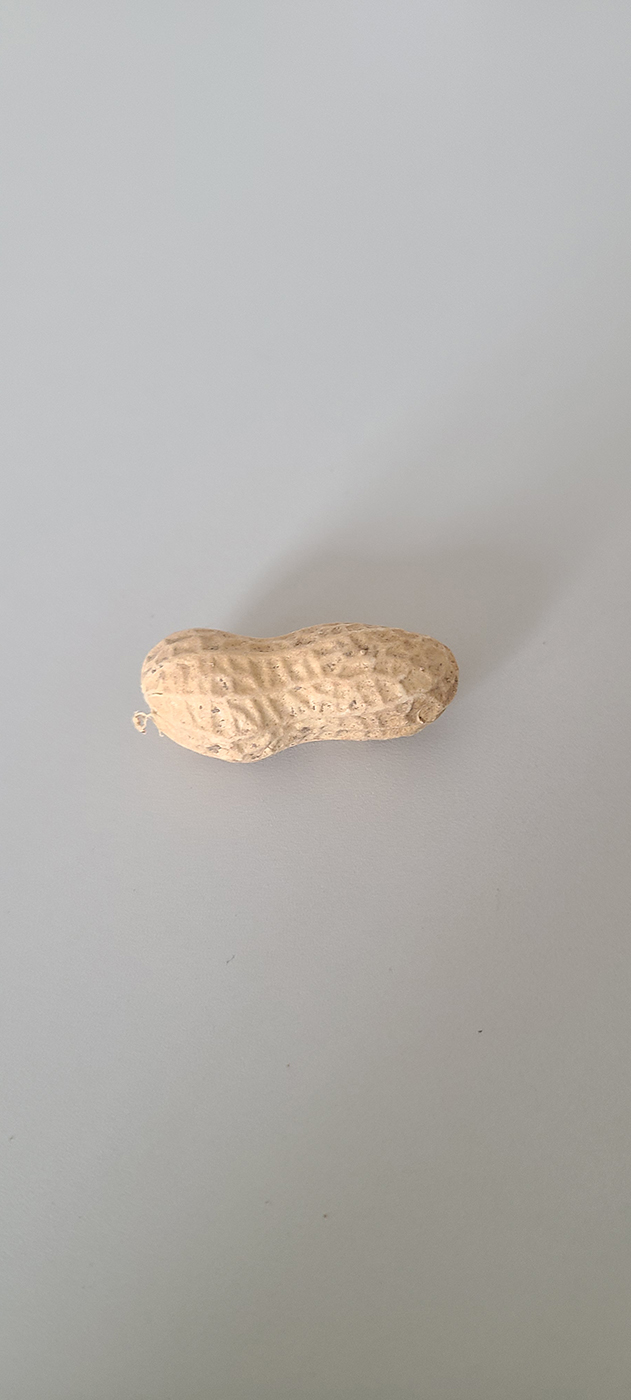h: (137, 621, 463, 758)
